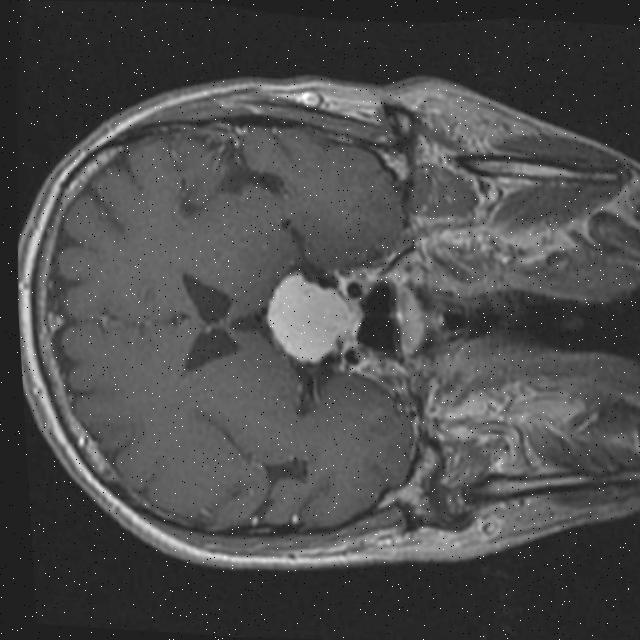Pituitary: (263, 268, 360, 369)
